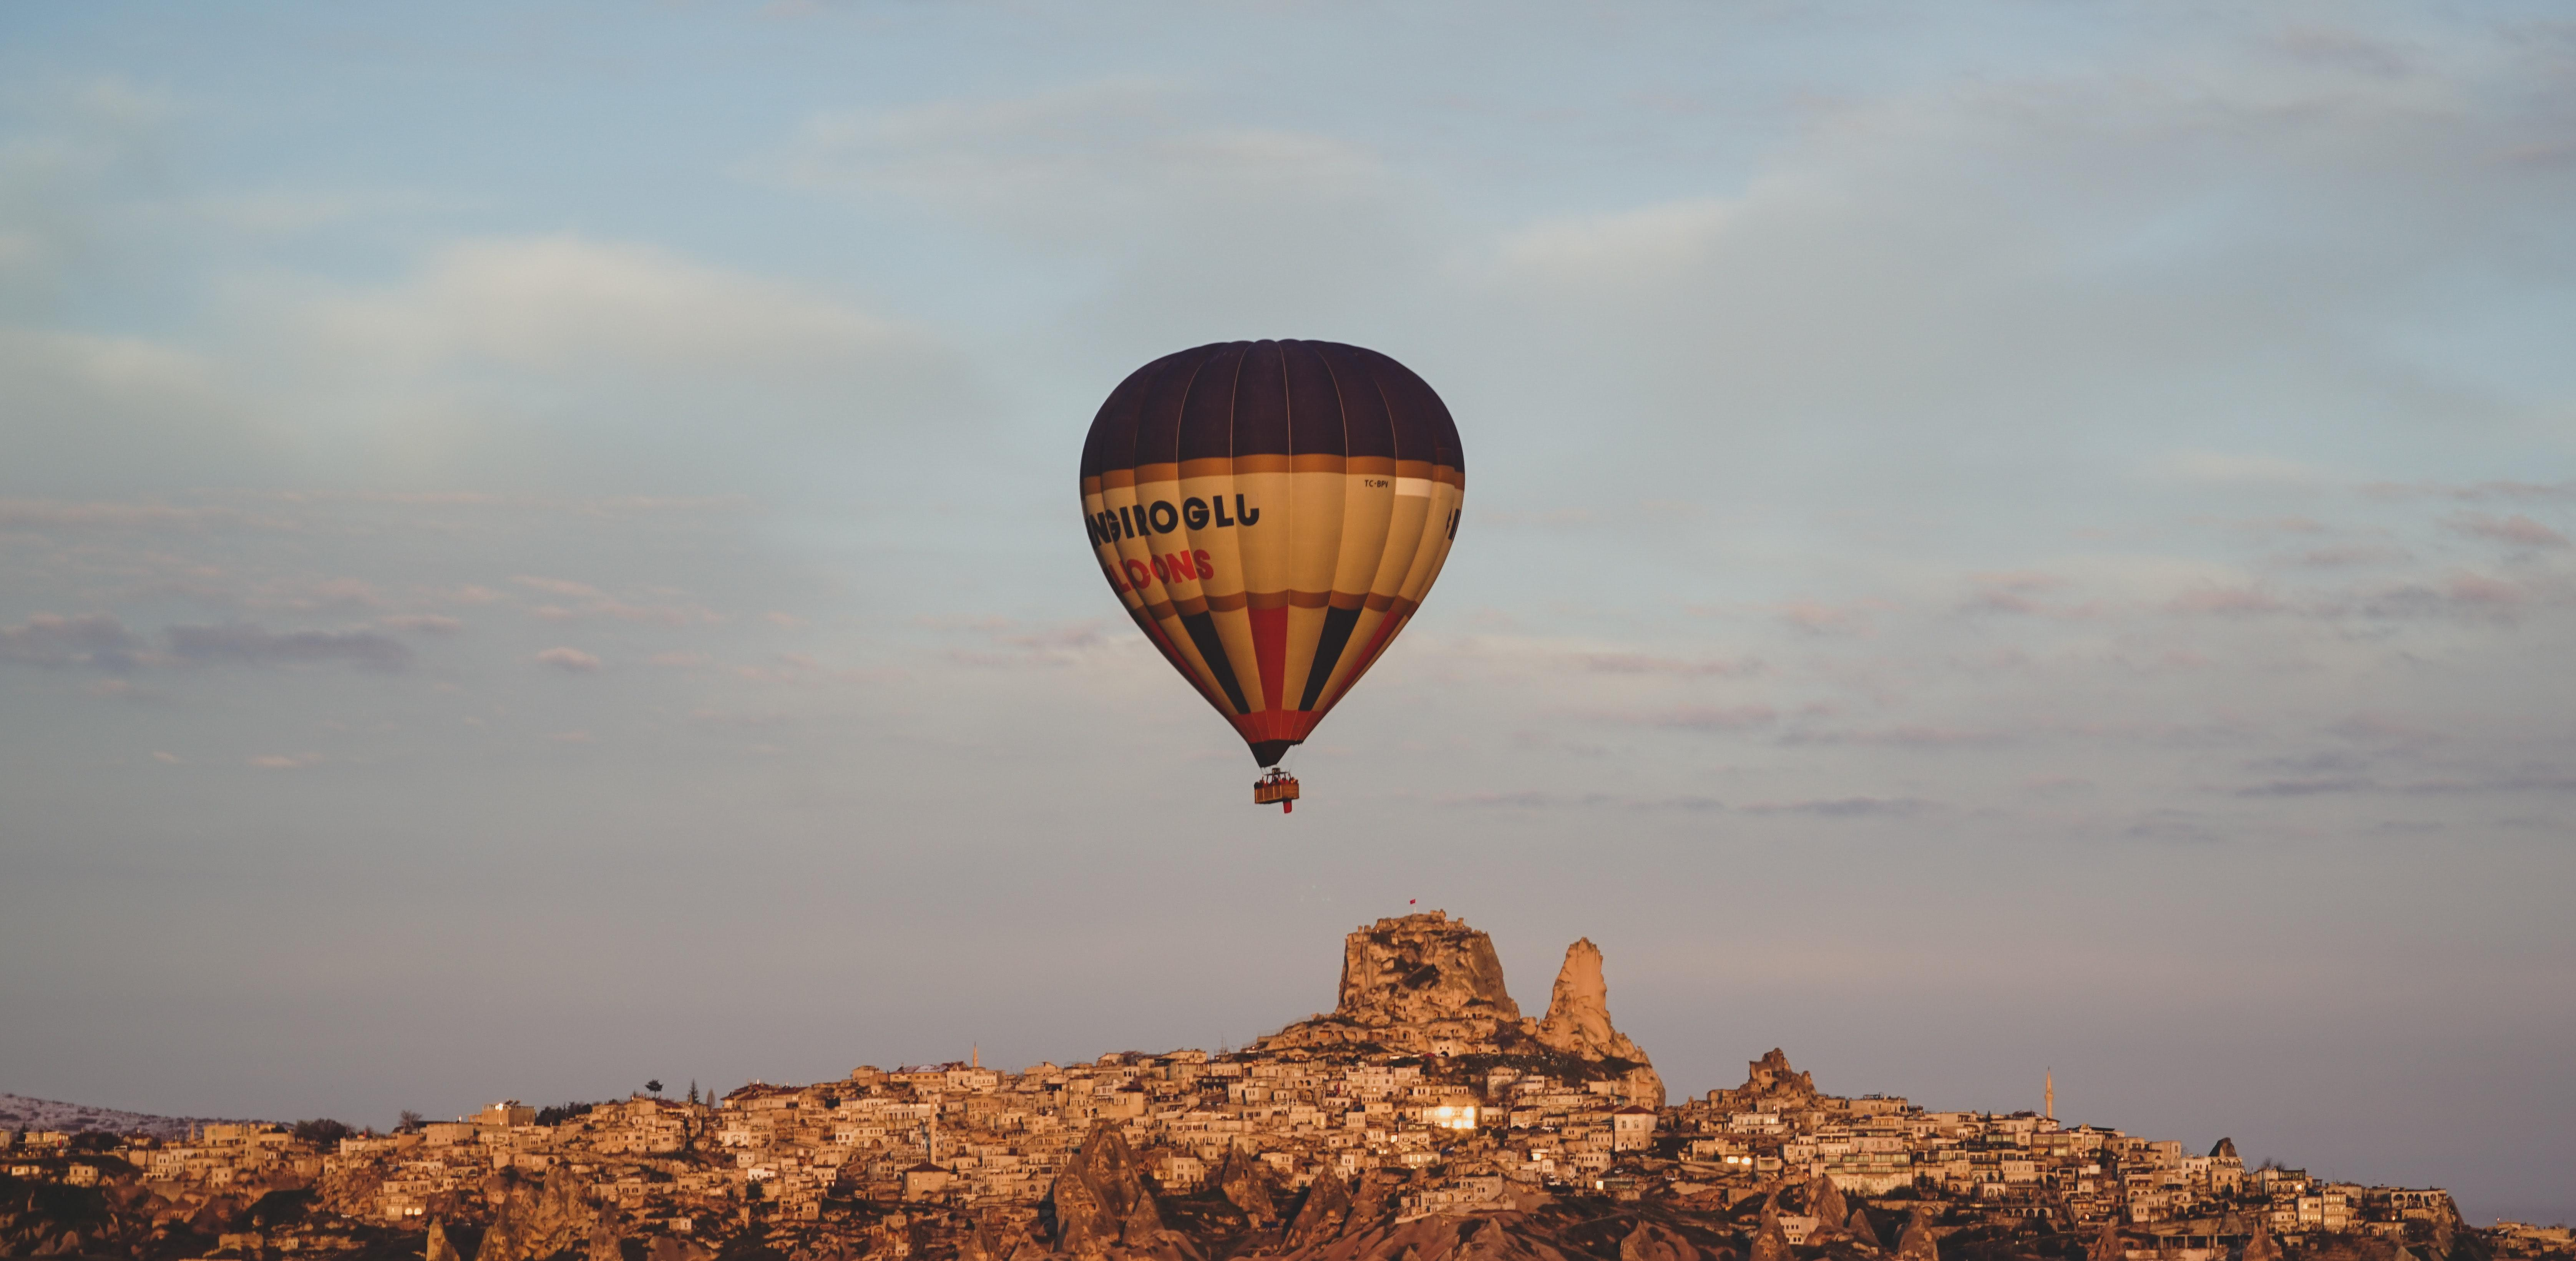hot air ballon: (1073, 323, 1470, 819)
